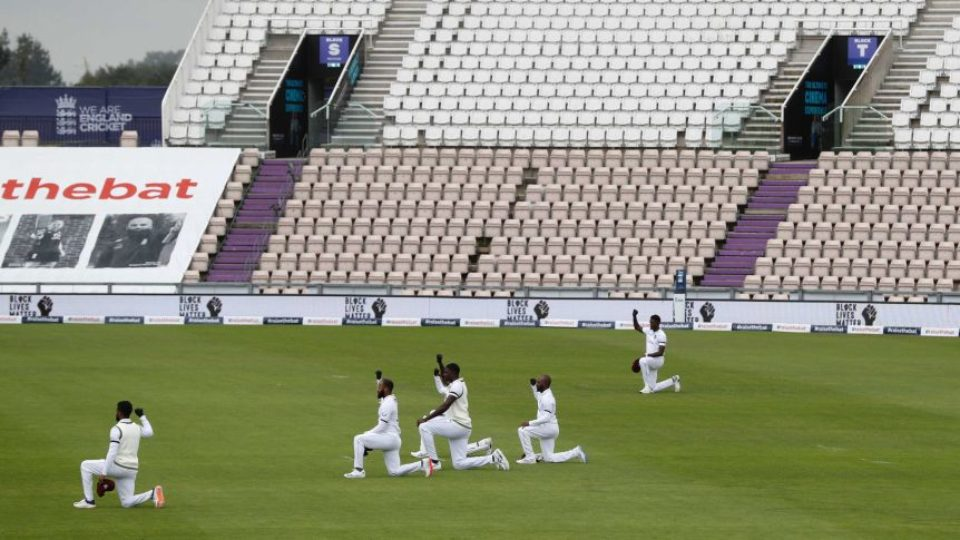Person: (72, 399, 164, 511), (418, 363, 508, 468), (345, 371, 413, 476), (515, 374, 584, 462), (630, 306, 679, 395)
